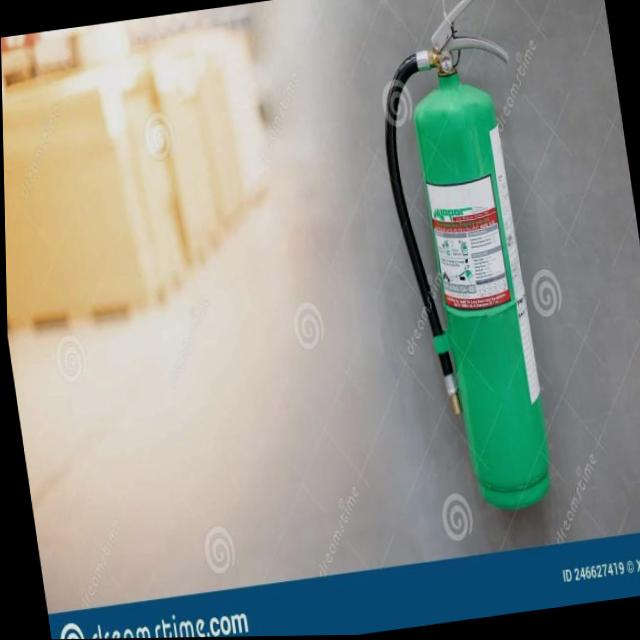FireExtinguisher: (357, 0, 577, 529)
